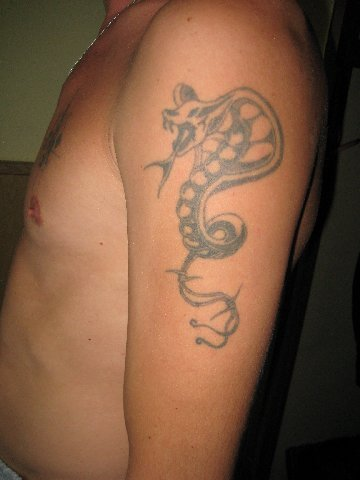tatu7_zmeya: (136, 60, 278, 386)
